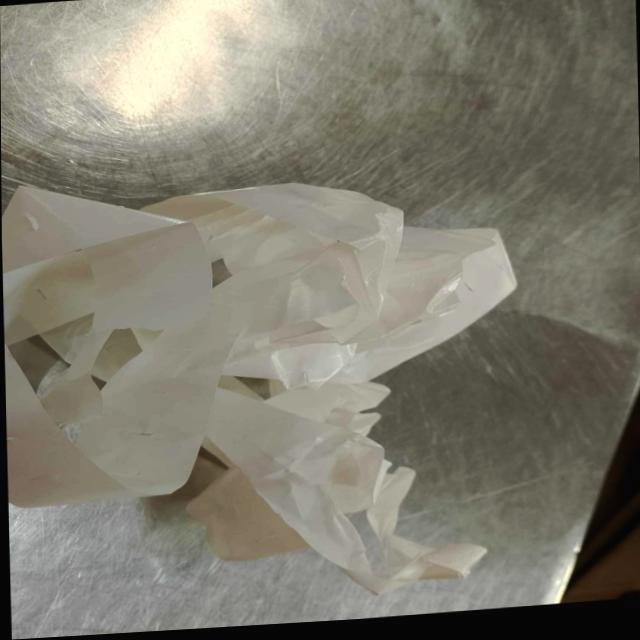General: (3, 179, 519, 596)
